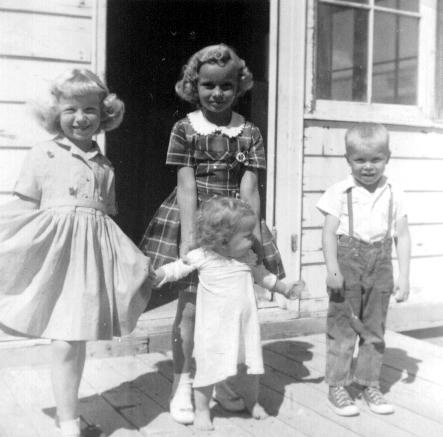without_mask: (200, 200, 258, 260), (53, 87, 107, 142), (341, 130, 394, 185), (193, 56, 241, 116)
